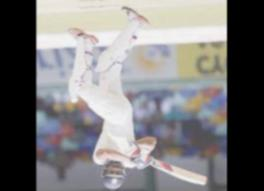batsman: (36, 0, 155, 191)
